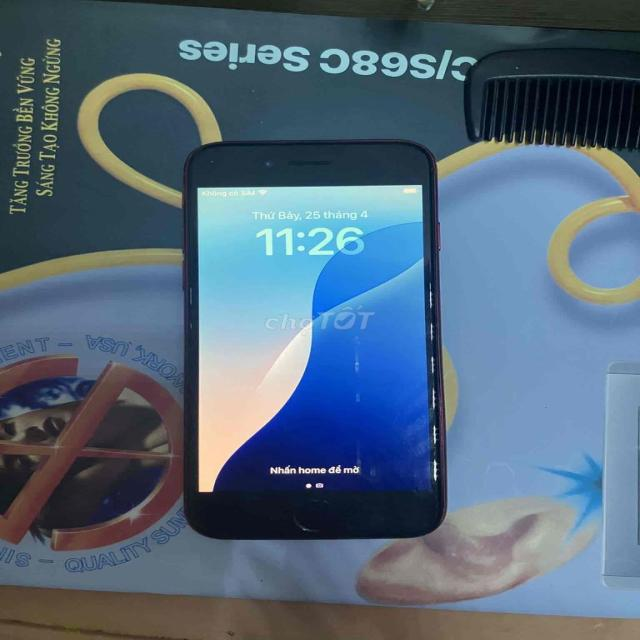scratch: (420, 276, 437, 311), (421, 318, 439, 342), (426, 386, 442, 413), (421, 350, 438, 374), (430, 454, 444, 479), (428, 421, 439, 449)
